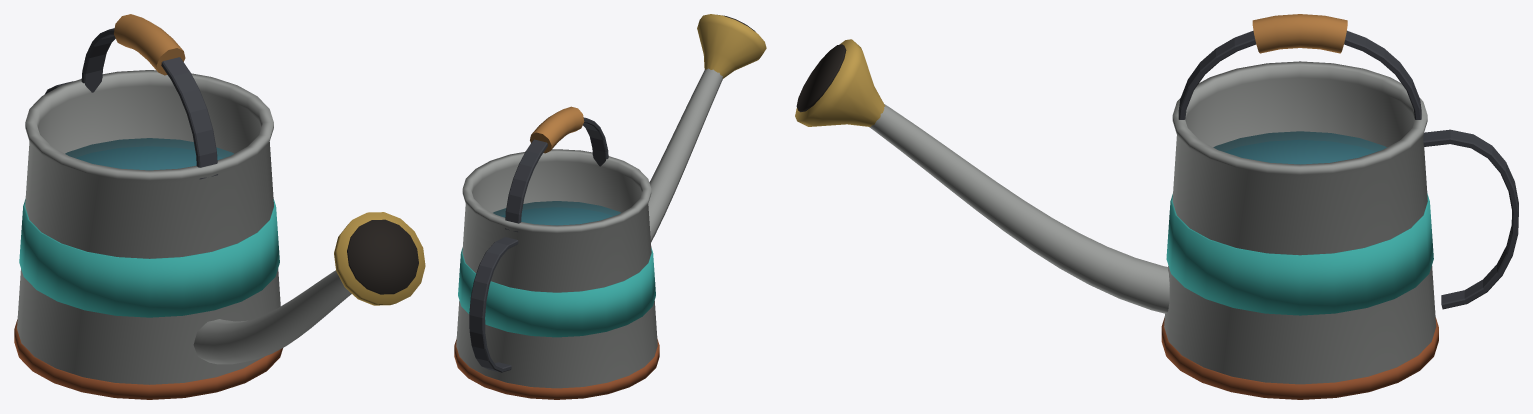
The model's file is tool_wateringcan.fbx.
3 views of the same model, side by side, from view 1: azimuth 30°, elevation 25°; view 2: azimuth 150°, elevation 25°; view 3: azimuth 270°, elevation 25° (orthographic). The views are drawn at different scales.
Parts seen in each view (by area): view 1: Tool_WateringCan_Body, Tool_WateringCan_Rose, Tool_WateringCan_Spout, Tool_WateringCan_Handles, Tool_WateringCan_Water; view 2: Tool_WateringCan_Body, Tool_WateringCan_Handles, Tool_WateringCan_Spout, Tool_WateringCan_Rose, Tool_WateringCan_Water; view 3: Tool_WateringCan_Body, Tool_WateringCan_Spout, Tool_WateringCan_Handles, Tool_WateringCan_Rose, Tool_WateringCan_Water.
Boxes of the visible parts, bbox=[...] form: Tool_WateringCan_Body: bbox=[14, 70, 282, 399]; Tool_WateringCan_Rose: bbox=[334, 212, 425, 305]; Tool_WateringCan_Spout: bbox=[193, 270, 351, 364]; Tool_WateringCan_Handles: bbox=[44, 14, 217, 179]; Tool_WateringCan_Water: bbox=[65, 138, 233, 170]; Tool_WateringCan_Body: bbox=[454, 149, 659, 399]; Tool_WateringCan_Handles: bbox=[469, 106, 608, 372]; Tool_WateringCan_Spout: bbox=[648, 68, 722, 242]; Tool_WateringCan_Rose: bbox=[697, 14, 766, 78]; Tool_WateringCan_Water: bbox=[493, 201, 620, 225]; Tool_WateringCan_Body: bbox=[1161, 61, 1438, 399]; Tool_WateringCan_Spout: bbox=[869, 104, 1169, 313]; Tool_WateringCan_Handles: bbox=[1178, 14, 1518, 309]; Tool_WateringCan_Rose: bbox=[795, 39, 885, 126]; Tool_WateringCan_Water: bbox=[1213, 131, 1386, 164].
Bounding box in the file's own units: 34.8 × 45.02 × 90.85.
